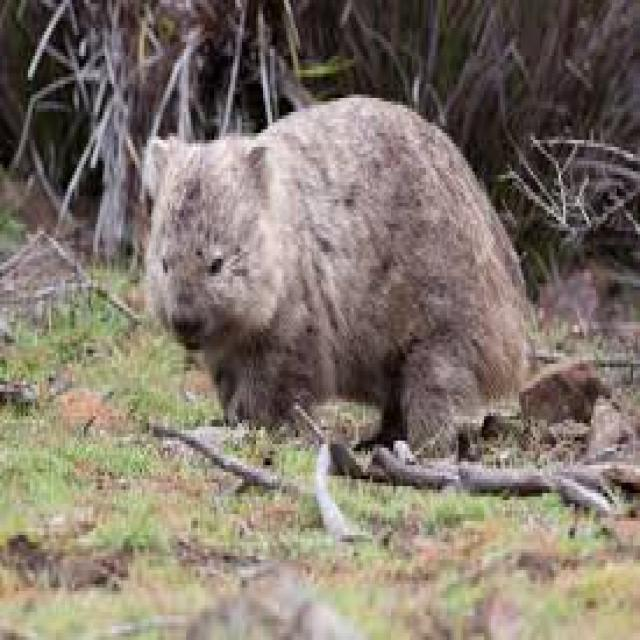Wombat: (131, 90, 533, 457)
